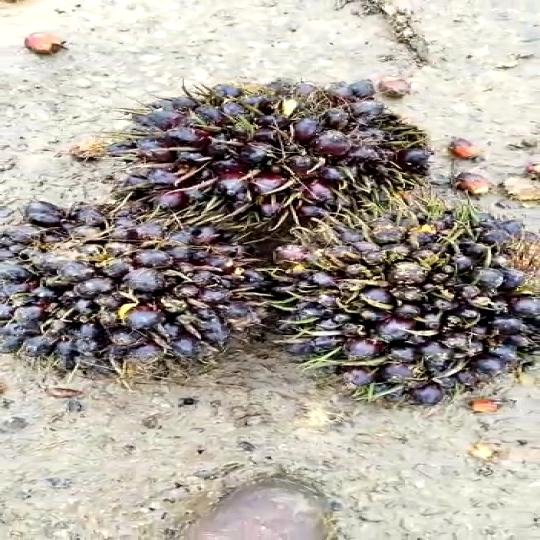mentah: (102, 78, 459, 242), (0, 179, 258, 396), (262, 192, 516, 411)
